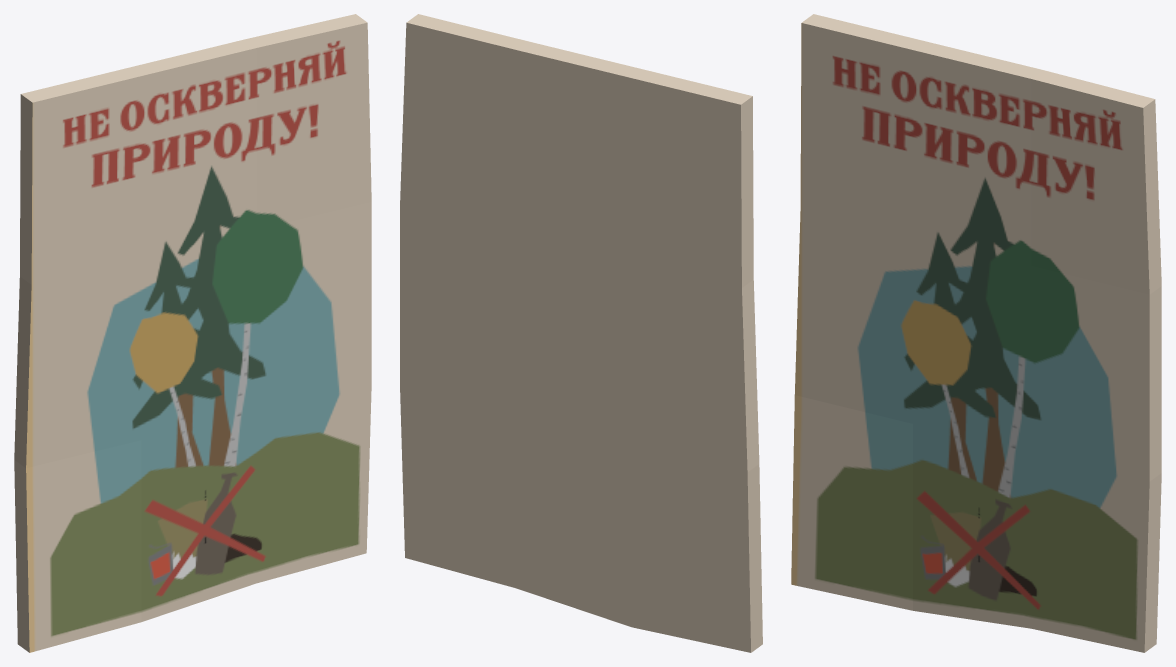
File: Wh_Poster_01.fbx
The picture shows the model from 3 angles, left to right: view 1: azimuth 30°, elevation 25°; view 2: azimuth 150°, elevation 25°; view 3: azimuth 330°, elevation 25°; orthographic projection. The views are drawn at different scales.
Visible parts, largest first — view 1: Cube.908; view 2: Cube.908; view 3: Cube.908.
Boxes of the visible parts, left/top/right/bottom form: Cube.908: left=14, top=14, right=371, bottom=652; Cube.908: left=400, top=14, right=762, bottom=652; Cube.908: left=791, top=14, right=1161, bottom=652.
Bounding box in the file's own units: 60.85 × 91.88 × 4.67.
